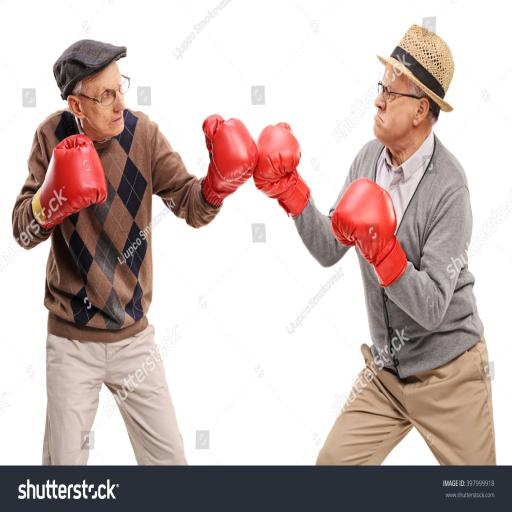fight: (0, 17, 501, 333)
